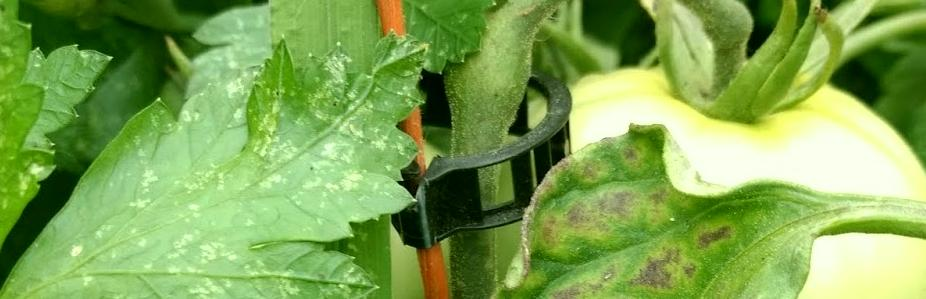Tomato leaf mosaic virus: (0, 35, 422, 299)
